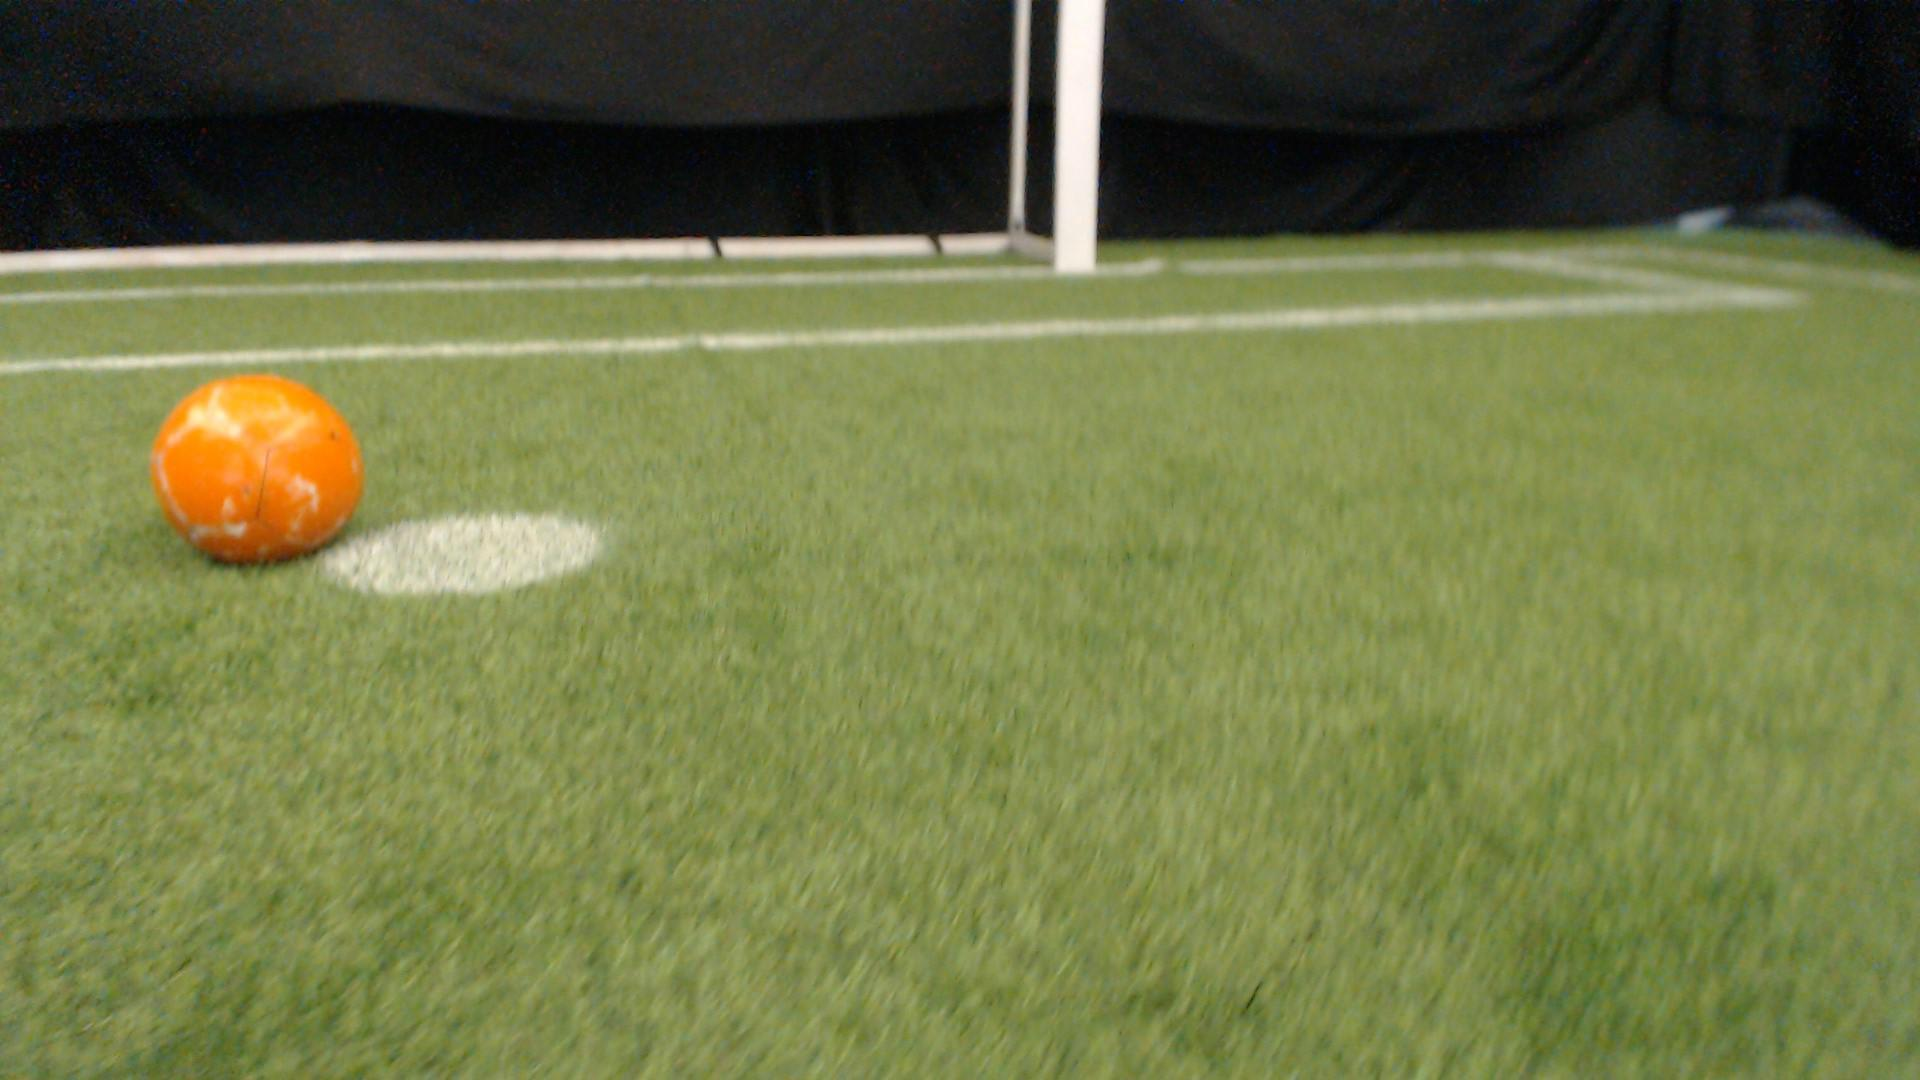bola: (135, 363, 385, 591)
